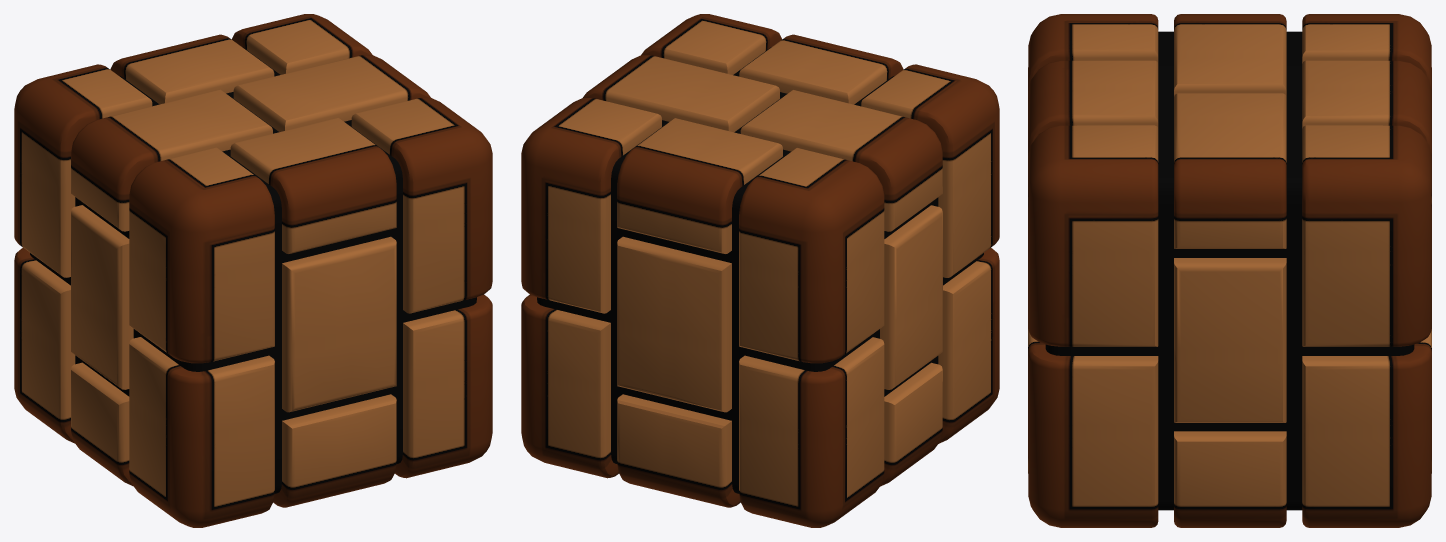
The model's file is brick.gltf.
The picture shows the model from 3 angles, left to right: view 1: azimuth 30°, elevation 25°; view 2: azimuth 150°, elevation 25°; view 3: azimuth 270°, elevation 25°; orthographic projection. The views are drawn at different scales.
Parts seen in each view (by area): view 1: brick_Cube.002; view 2: brick_Cube.002; view 3: brick_Cube.002.
Part boxes in pixels (left/top/right/bottom): brick_Cube.002: left=14, top=14, right=492, bottom=527; brick_Cube.002: left=521, top=14, right=999, bottom=527; brick_Cube.002: left=1028, top=14, right=1431, bottom=527.
Size of the model in its own units: 1.97 by 1.97 by 1.97.
2 materials, 2 textured.
